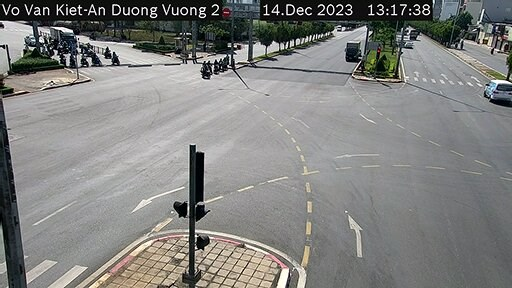car: (477, 79, 512, 101)
motorbike: (199, 60, 213, 77), (205, 56, 216, 75), (222, 55, 232, 72), (217, 57, 228, 70), (212, 59, 220, 73)
truck: (47, 28, 82, 46), (347, 38, 364, 58)
